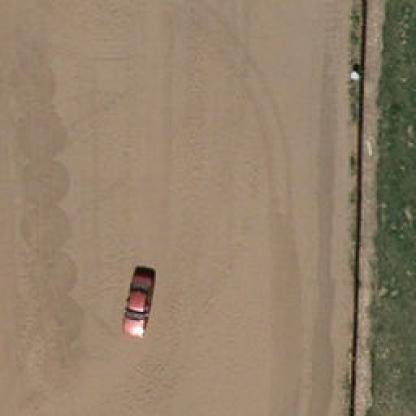car: (120, 270, 154, 343)
